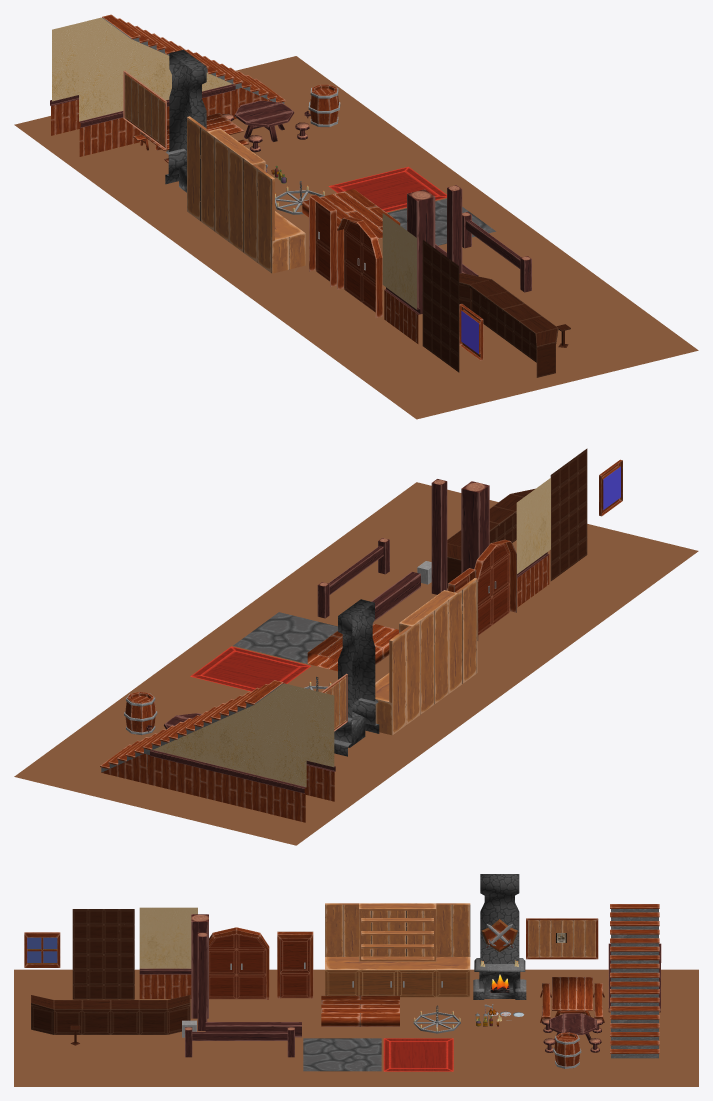
3 views of the same model, one above another, from view 1: azimuth 30°, elevation 25°; view 2: azimuth 150°, elevation 25°; view 3: azimuth 270°, elevation 25° (orthographic). The views are drawn at different scales.
Visible parts, largest first — view 1: Plane.006, Escaleras.002, BaseCube.003, BarraBar.002, Plane.005, Wall1.022, ChimeneaMK1.002, PuertaDoble.002, Carpetlong.001, Ventana.006, Puerta.007, Mesa2.003 (+8 smaller); view 2: Plane.006, Escaleras.002, BaseCube.003, ChimeneaMK1.002, Plane.005, Wall1.022, PuertaDoble.002, Carpetlong.001, Plane, Viga.005, BarraBar.002, Escaleras.001 (+6 smaller); view 3: Plane.006, BaseCube.003, Escaleras.002, Plane.005, BarraBar.002, Wall1.022, ChimeneaMK1.002, PuertaDoble.002, Ventana.006, Plane, SueloTablas.001, Puerta.007 (+11 smaller).
Part boxes in pixels (left/top/right/bottom): Plane.006: left=14, top=56, right=698, bottom=419; Escaleras.002: left=50, top=14, right=285, bottom=156; BaseCube.003: left=187, top=116, right=305, bottom=273; BarraBar.002: left=459, top=273, right=558, bottom=377; Plane.005: left=422, top=240, right=459, bottom=372; Wall1.022: left=382, top=213, right=420, bottom=343; ChimeneaMK1.002: left=165, top=49, right=206, bottom=192; PuertaDoble.002: left=337, top=216, right=382, bottom=317; Carpetlong.001: left=328, top=166, right=446, bottom=212; Ventana.006: left=123, top=70, right=166, bottom=149; Puerta.007: left=309, top=194, right=336, bottom=286; Mesa2.003: left=222, top=100, right=309, bottom=152; Plane.006: left=14, top=482, right=698, bottom=845; Escaleras.002: left=100, top=680, right=335, bottom=822; BaseCube.003: left=375, top=578, right=477, bottom=735; ChimeneaMK1.002: left=334, top=599, right=379, bottom=756; Plane.005: left=550, top=448, right=587, bottom=581; Wall1.022: left=516, top=478, right=550, bottom=607; PuertaDoble.002: left=474, top=539, right=516, bottom=640; Carpetlong.001: left=190, top=646, right=310, bottom=691; Plane: left=233, top=612, right=337, bottom=663; Viga.005: left=461, top=481, right=489, bottom=573; BarraBar.002: left=447, top=488, right=535, bottom=588; Escaleras.001: left=431, top=479, right=447, bottom=594; Plane.006: left=14, top=969, right=698, bottom=1086; BaseCube.003: left=325, top=903, right=470, bottom=997; Escaleras.002: left=608, top=904, right=661, bottom=1058; Plane.005: left=72, top=909, right=134, bottom=999; BarraBar.002: left=31, top=995, right=190, bottom=1034; Wall1.022: left=139, top=907, right=197, bottom=998; ChimeneaMK1.002: left=473, top=874, right=526, bottom=999; PuertaDoble.002: left=209, top=927, right=269, bottom=999; Ventana.006: left=526, top=918, right=598, bottom=959; Plane: left=303, top=1038, right=381, bottom=1071; SueloTablas.001: left=321, top=995, right=399, bottom=1026; Puerta.007: left=277, top=931, right=313, bottom=998.
Size of the model in its own units: 11.7 by 5.42 by 28.91.
31 materials, 27 textured.
